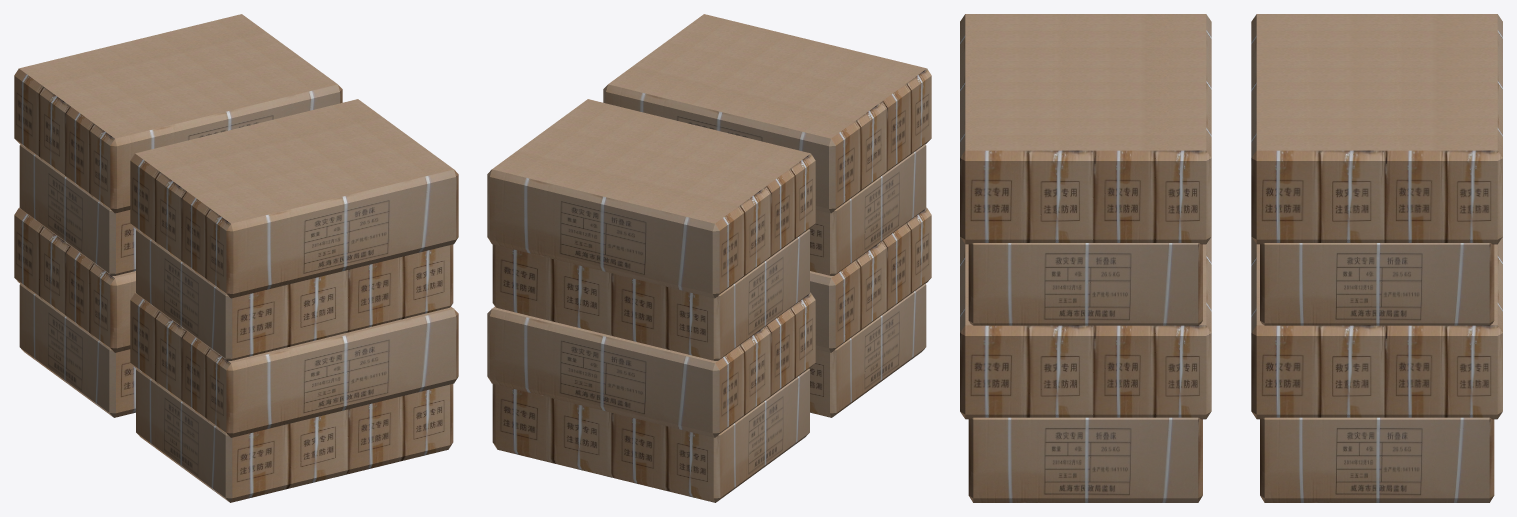
The model's file is zhediechuang.FBX.
The picture shows the model from 3 angles, left to right: view 1: azimuth 30°, elevation 25°; view 2: azimuth 150°, elevation 25°; view 3: azimuth 270°, elevation 25°; orthographic projection. The views are drawn at different scales.
Visible parts, largest first — view 1: Box7964; view 2: Box7964; view 3: Box7964.
Boxes of the visible parts, x1,y1,x2,y2 form: Box7964: (14,14,458,502); Box7964: (487,14,931,502); Box7964: (960,14,1502,502).
Size of the model in its own units: 0.9453 by 1.52 by 1.1.
